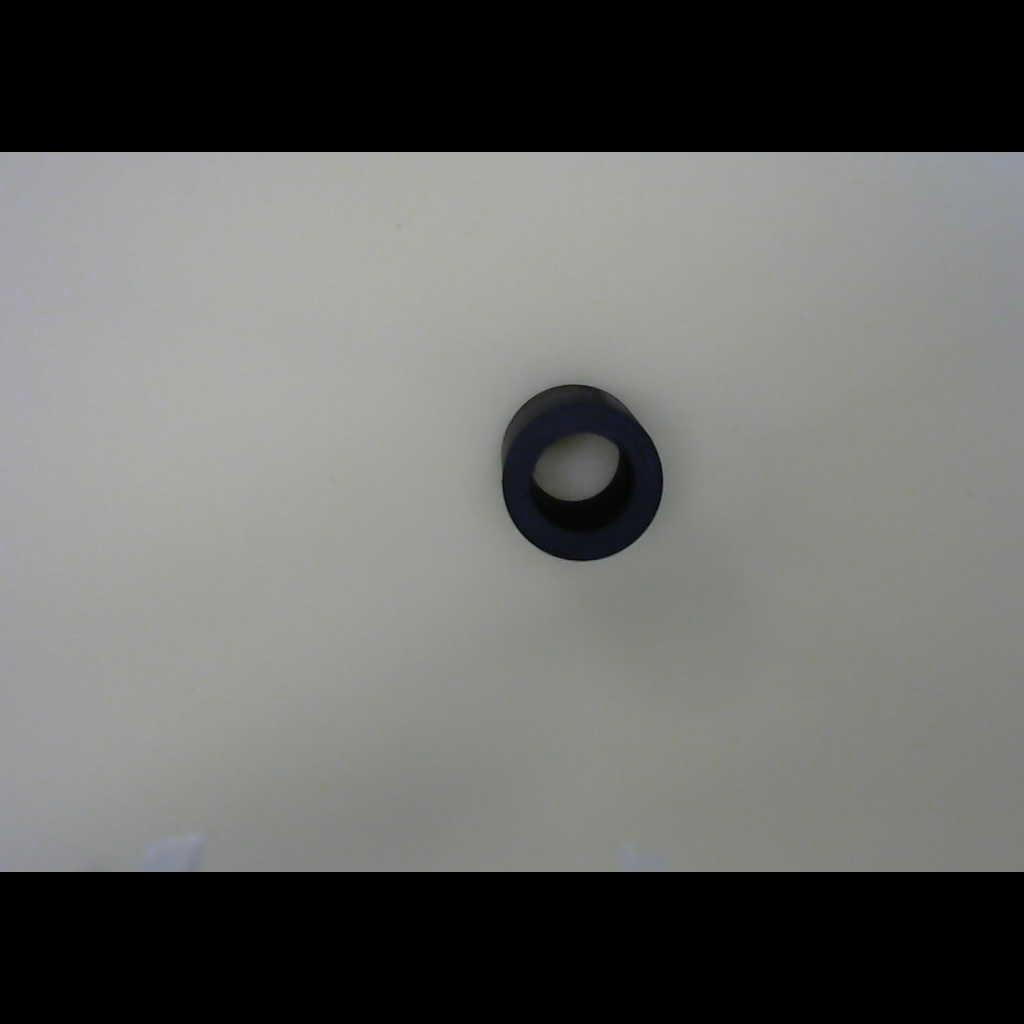ring: (481, 366, 690, 581)
